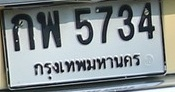txt01: (9, 12, 36, 52)
txt25: (35, 9, 63, 49)
